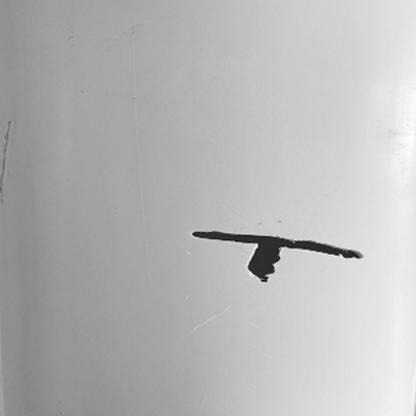fengxi: (191, 229, 365, 261)
kongdong: (248, 243, 283, 284)
